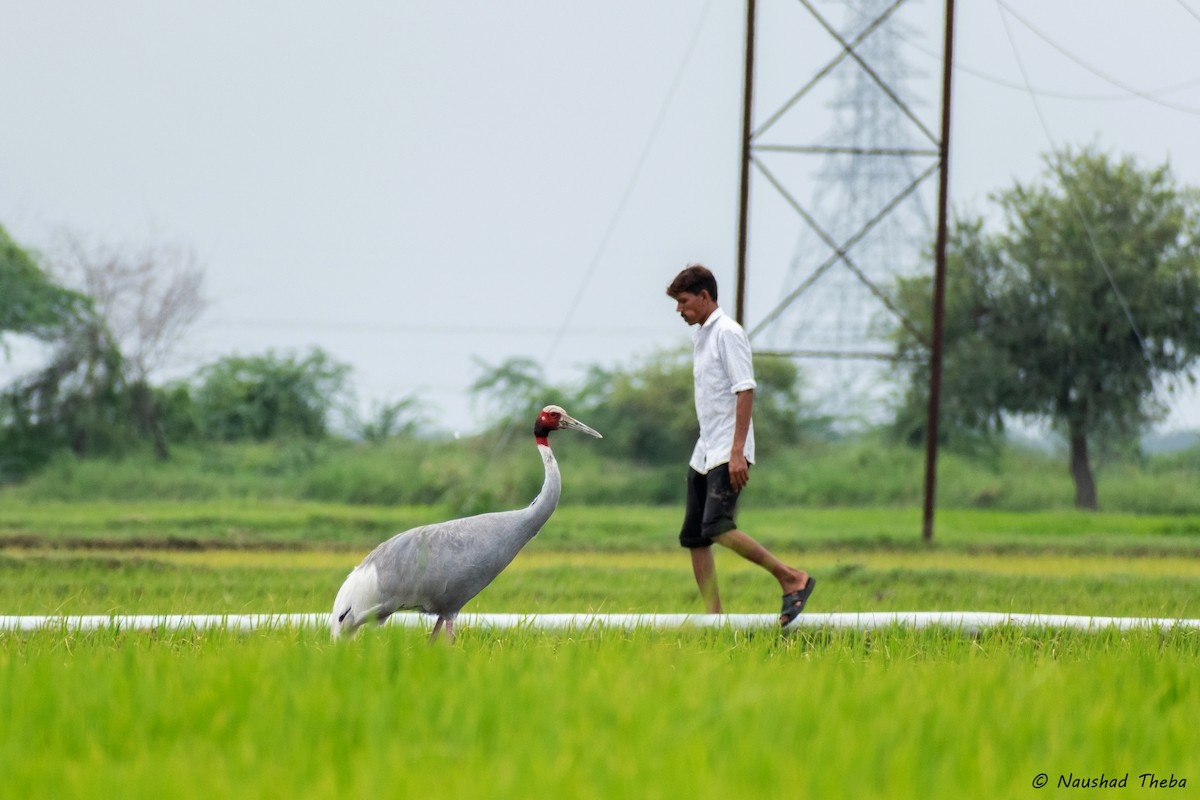crane: (327, 400, 610, 637)
